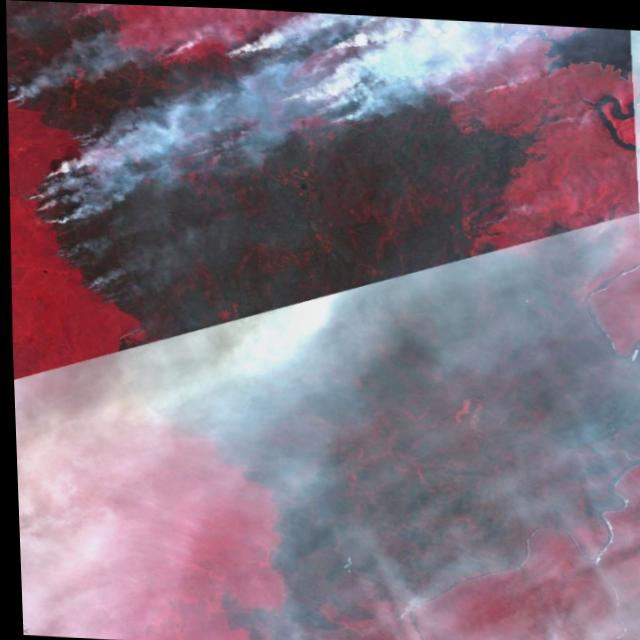fire: (148, 4, 565, 134), (9, 128, 133, 313)
